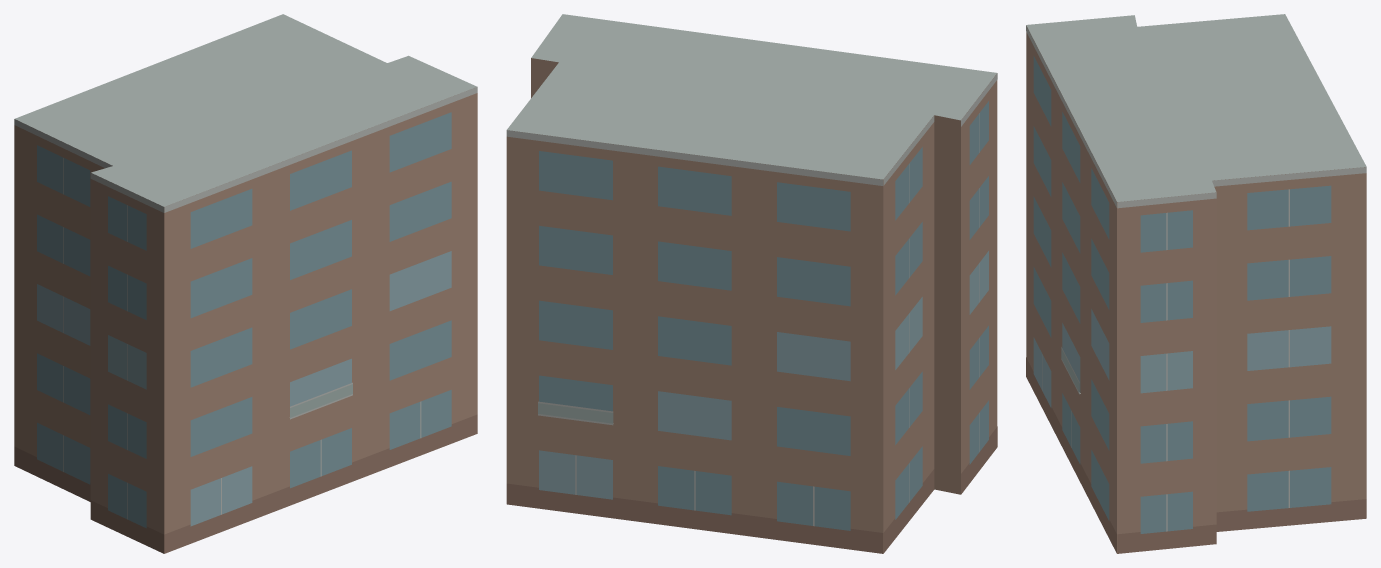
The model's file is survey-upis-32931840.glb.
3 views of the same model, side by side, from view 1: azimuth 30°, elevation 25°; view 2: azimuth 150°, elevation 25°; view 3: azimuth 270°, elevation 25° (orthographic). The views are drawn at different scales.
Parts seen in each view (by area): view 1: survey-upis-32931840.tmp; view 2: survey-upis-32931840.tmp; view 3: survey-upis-32931840.tmp.
Part boxes in pixels (bbox=[...]): survey-upis-32931840.tmp: bbox=[14, 14, 477, 553]; survey-upis-32931840.tmp: bbox=[506, 14, 997, 553]; survey-upis-32931840.tmp: bbox=[1026, 14, 1366, 553].
Size of the model in its own units: 15.84 by 13.8 by 12.12.
